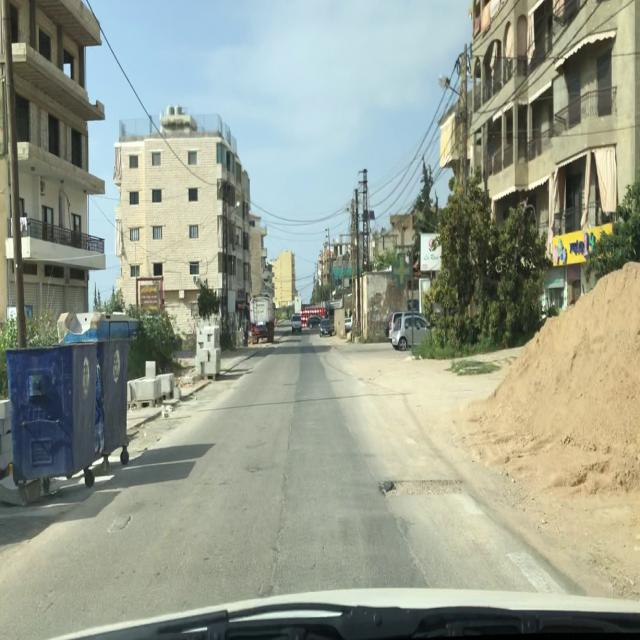Pothole: (378, 476, 470, 499)
